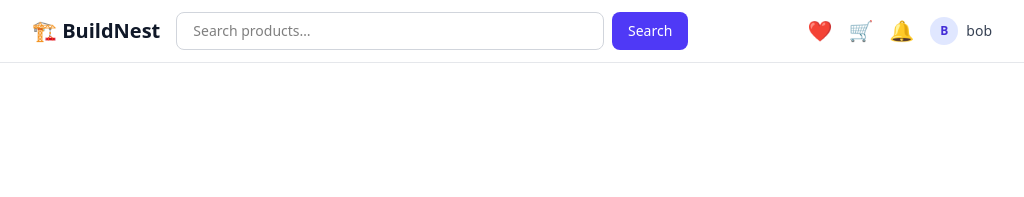
Scenario: Navbar › shows an Admin link in the dropdown only for users with the ADMIN role
Click the button "B bob".
click(961, 31)  # box top-left (930, 17), bottom-right (992, 45)
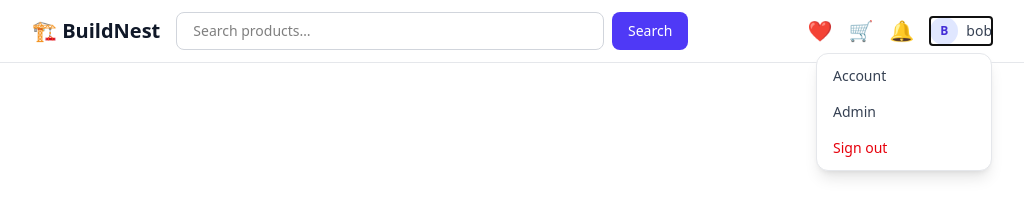
Expected: the link "Admin" is shown, top-left (833, 102), bottom-right (876, 121)
